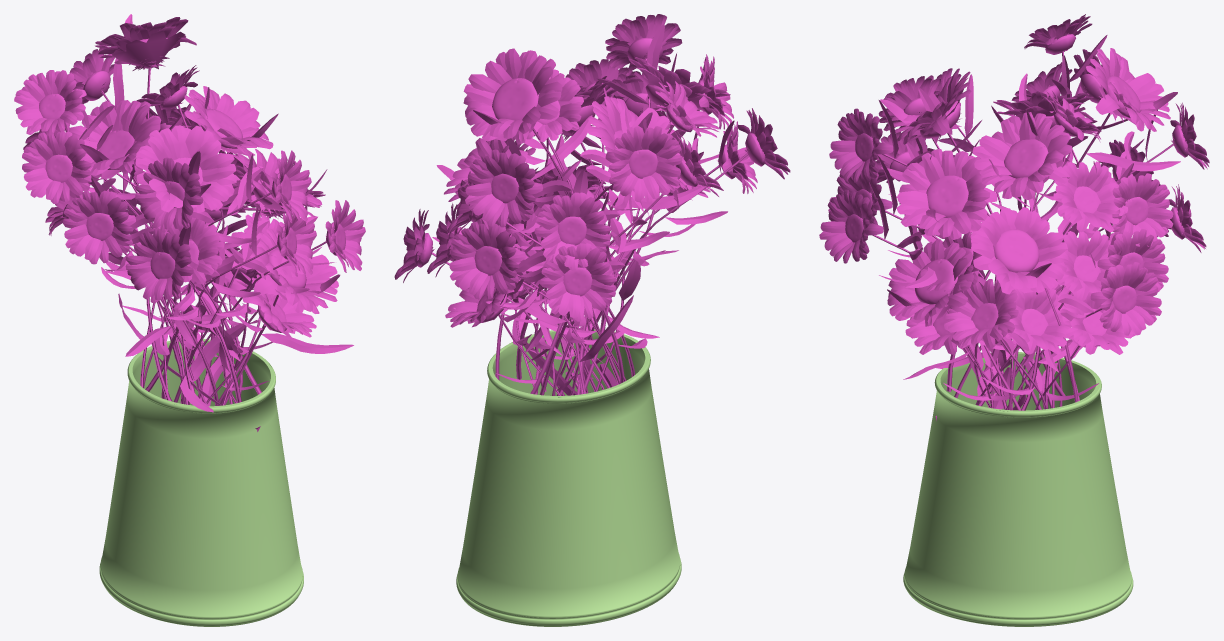
The model's file is цветы.obj.
3 renders of one model, left to right at view 1: azimuth 30°, elevation 25°; view 2: azimuth 150°, elevation 25°; view 3: azimuth 270°, elevation 25°, orthographic. The views are drawn at different scales.
Visible parts, largest first — view 1: Line001, Object022, Object021, Object020, Object010, Object001, Object027, Object017, Object024, Object011, Object014, Object005 (+15 smaller); view 2: Line001, Object005, Object025, Object019, Object026, Object002, Object004, Object027, Object012, Object022, Object021, Object018 (+18 smaller); view 3: Line001, Object014, Object016, Object024, Object001, Object005, Object006, Object090, Object013, Object089, Object012, Object003 (+19 smaller).
Boxes of the visible parts, box(x1,y1,x2,y2) form: Line001: box(99, 339, 303, 626); Object022: box(125, 125, 236, 402); Object021: box(63, 177, 219, 405); Object020: box(14, 70, 241, 402); Object010: box(125, 222, 251, 399); Object001: box(196, 228, 353, 431); Object027: box(69, 100, 201, 388); Object017: box(22, 130, 200, 398); Object024: box(155, 86, 278, 402); Object011: box(135, 151, 261, 385); Object014: box(174, 145, 334, 412); Object005: box(95, 14, 242, 401); Line001: box(456, 329, 681, 626); Object005: box(463, 48, 587, 391); Object025: box(449, 218, 610, 388); Object019: box(516, 112, 682, 379); Object026: box(465, 138, 624, 383); Object002: box(515, 243, 626, 381); Object004: box(524, 190, 635, 376); Object027: box(574, 96, 705, 393); Object012: box(579, 14, 699, 394); Object022: box(570, 57, 730, 395); Object021: box(556, 108, 790, 395); Object018: box(495, 69, 592, 380); Line001: box(903, 352, 1133, 626); Object014: box(896, 149, 1014, 405); Object016: box(968, 207, 1068, 410); Object024: box(970, 112, 1071, 408); Object001: box(887, 239, 1012, 420); Object005: box(1008, 48, 1180, 410); Object006: box(1005, 250, 1161, 409); Object090: box(944, 279, 1047, 408); Object013: box(819, 181, 1020, 410); Object089: box(1002, 161, 1127, 370); Object012: box(829, 100, 1065, 400); Object003: box(975, 288, 1071, 405).
Bounding box in the file's own units: 158 × 273 × 181.
